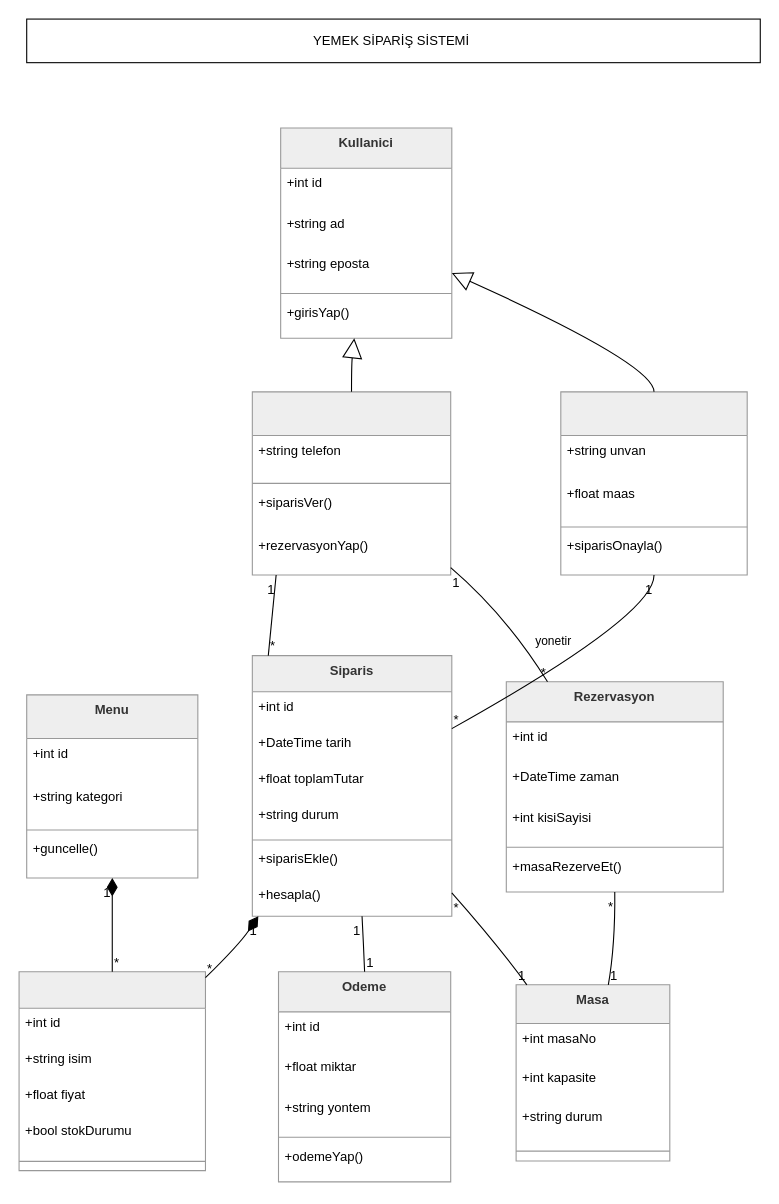
This 779x1204 diagram has some shape labels left out. Here are the shapes that lost their labels. From the top down, the box of each, then its label:
(251, 391, 451, 575): Musteri
(560, 391, 747, 575): Personel
(18, 971, 205, 1171): Urun
